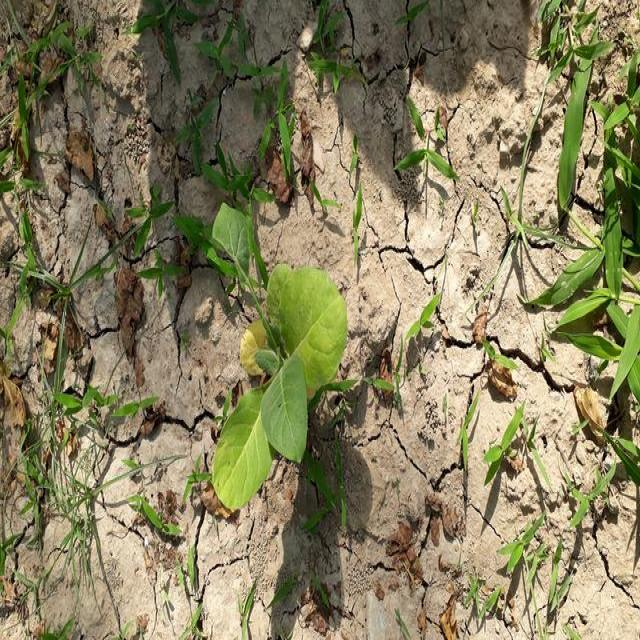crop: (195, 197, 351, 519)
